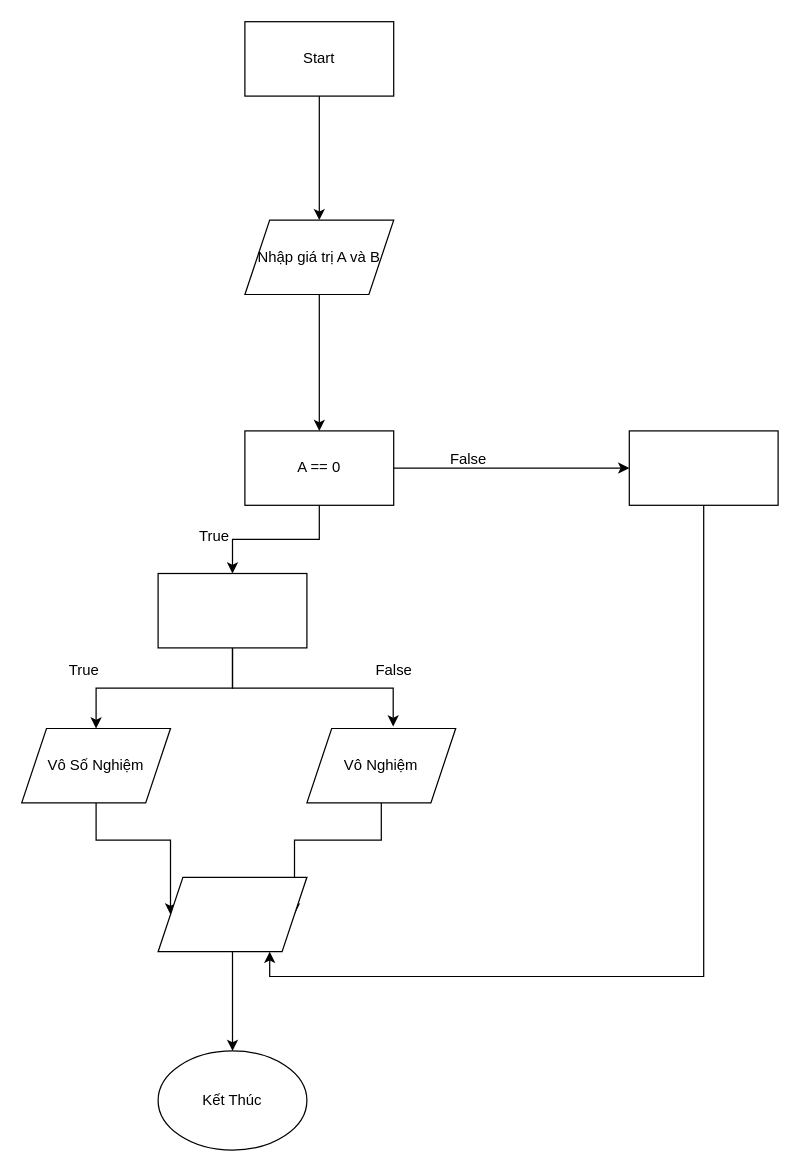
This 800x1172 diagram has some shape labels left out. The centre of each missing label's shape, as x and y in pixels:
B == 0: pixel 232 610
Hiển thị kết quả: pixel 232 914
Tính X = -B/A: pixel 703 467
